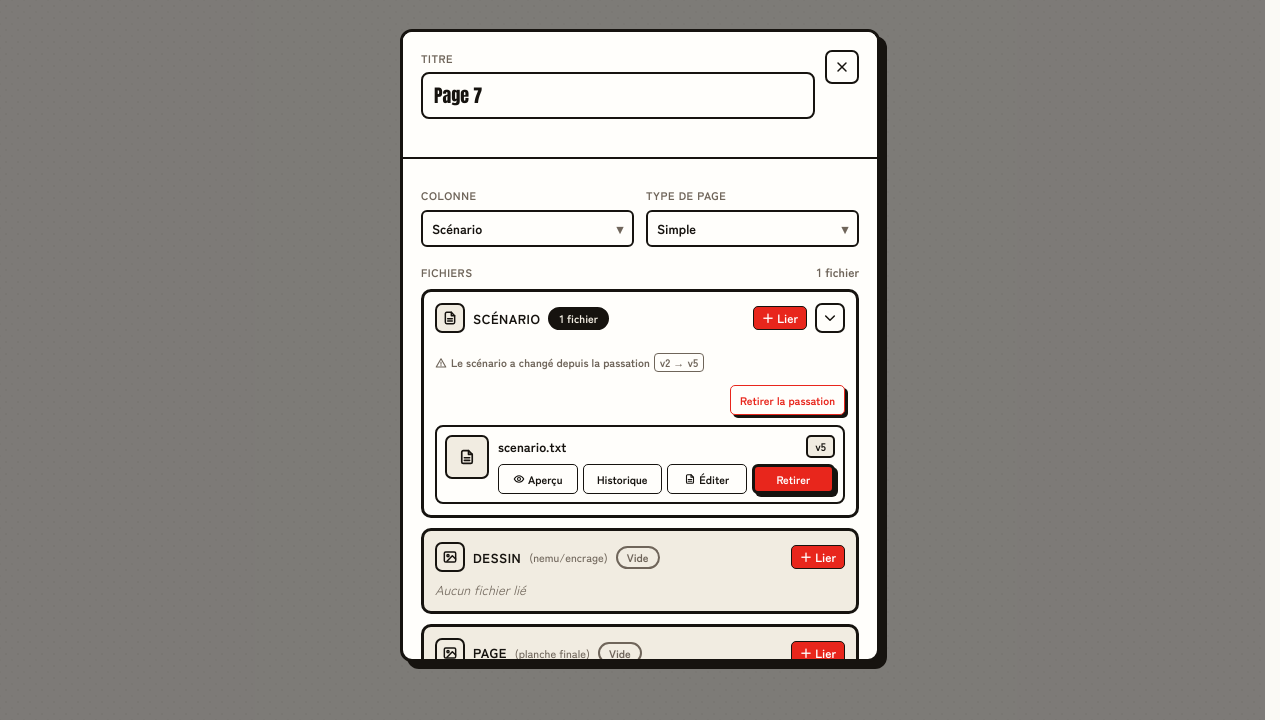
it: CardModal › CS-20 — handoff pin › drops the pin behind a confirmation (never a bare one-click destroy)
Click the button "Retirer la passation". click: (788, 400)
box: [730,385,845,415]
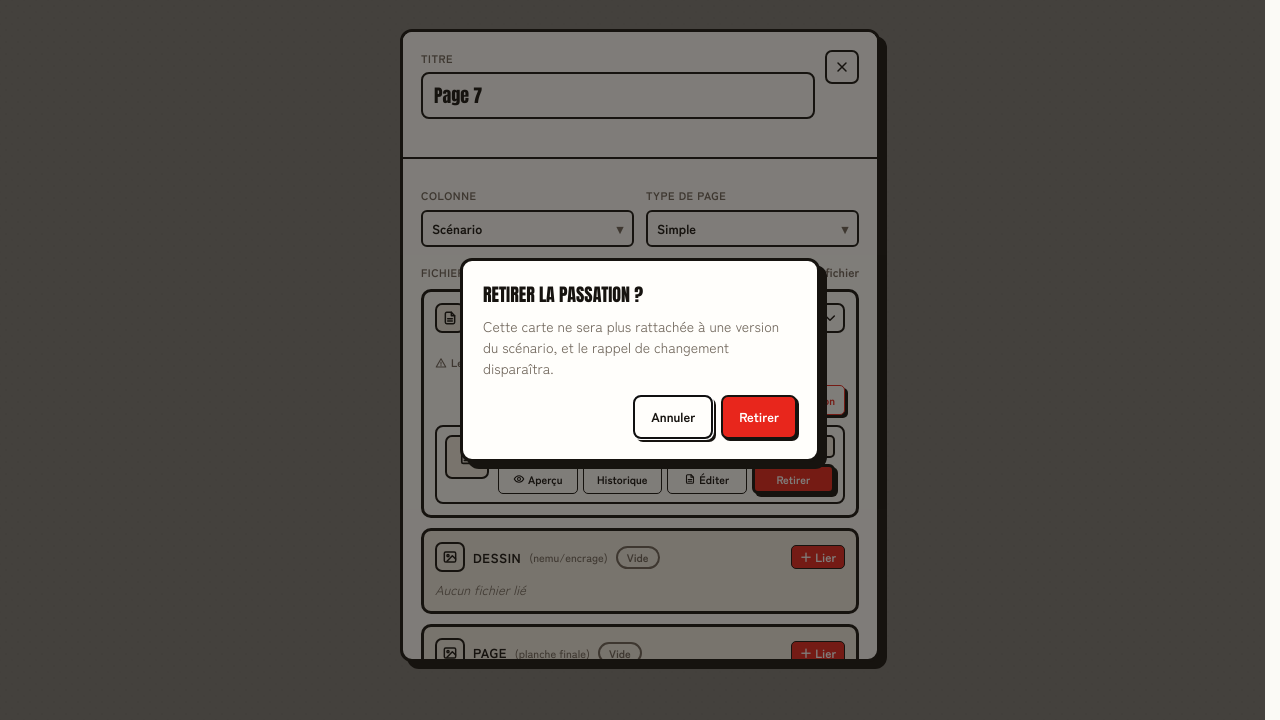
expect the dialog is shown: met, box [460,258,820,462]
Click the button "Retirer". click: (759, 417)
box: [721,395,797,439]
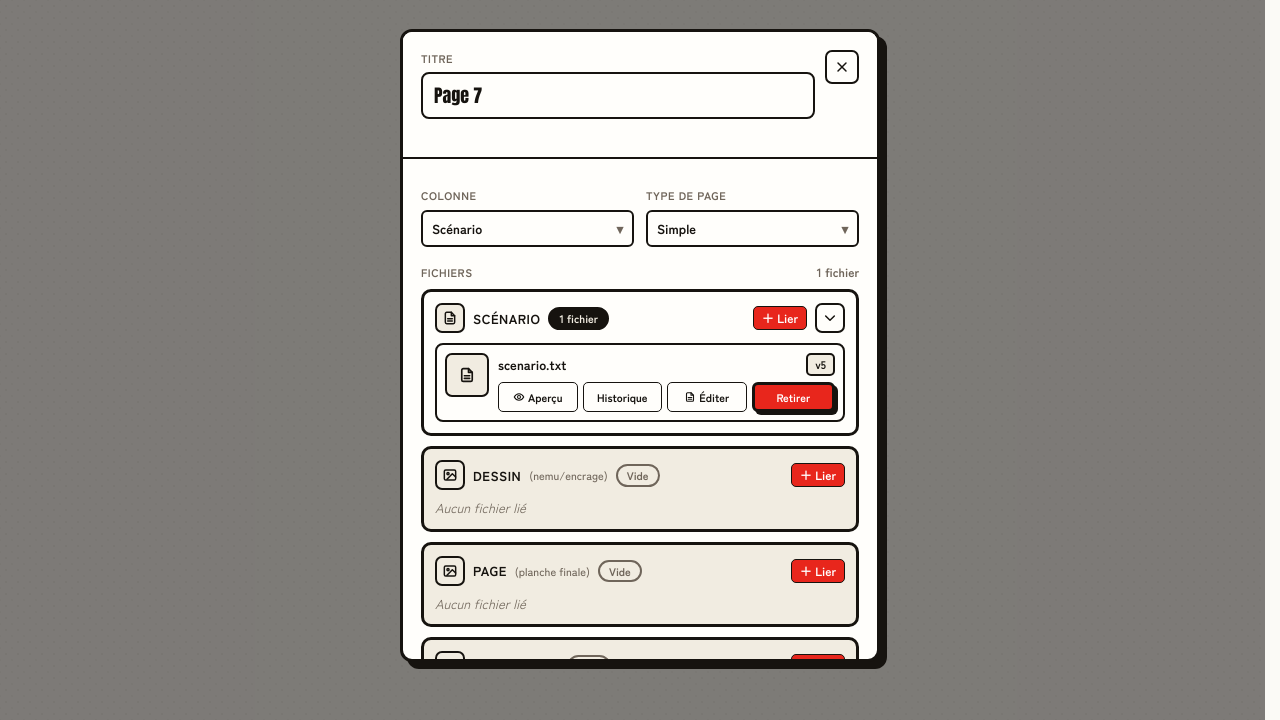
expect the button "Le scénario a changé depuis la passation" is gone: met
